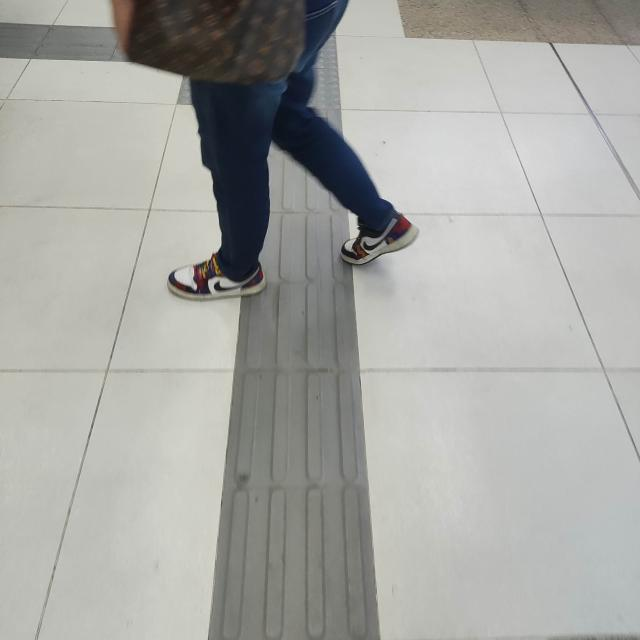lurus: (179, 299, 406, 640)
